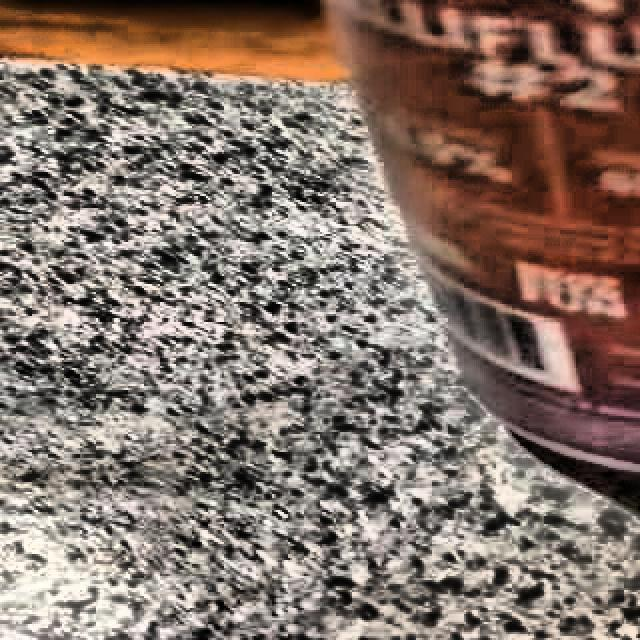metal: (220, 0, 640, 524)
